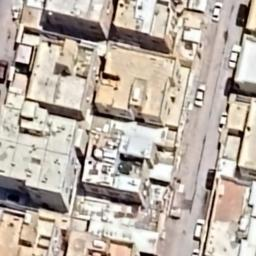sedan: (226, 42, 242, 70), (191, 216, 205, 244), (204, 167, 218, 192), (194, 80, 206, 108), (235, 3, 248, 28), (210, 2, 224, 24), (217, 112, 231, 134), (188, 247, 201, 256)
